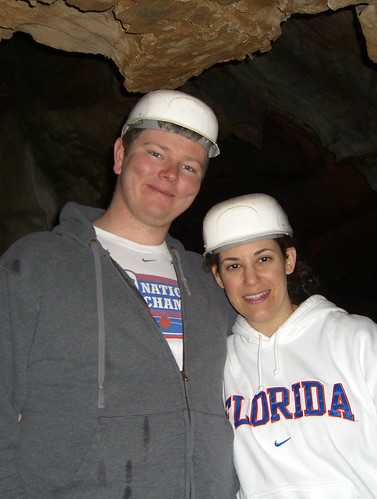person hardhat: (13, 78, 242, 498), (201, 186, 374, 499)
